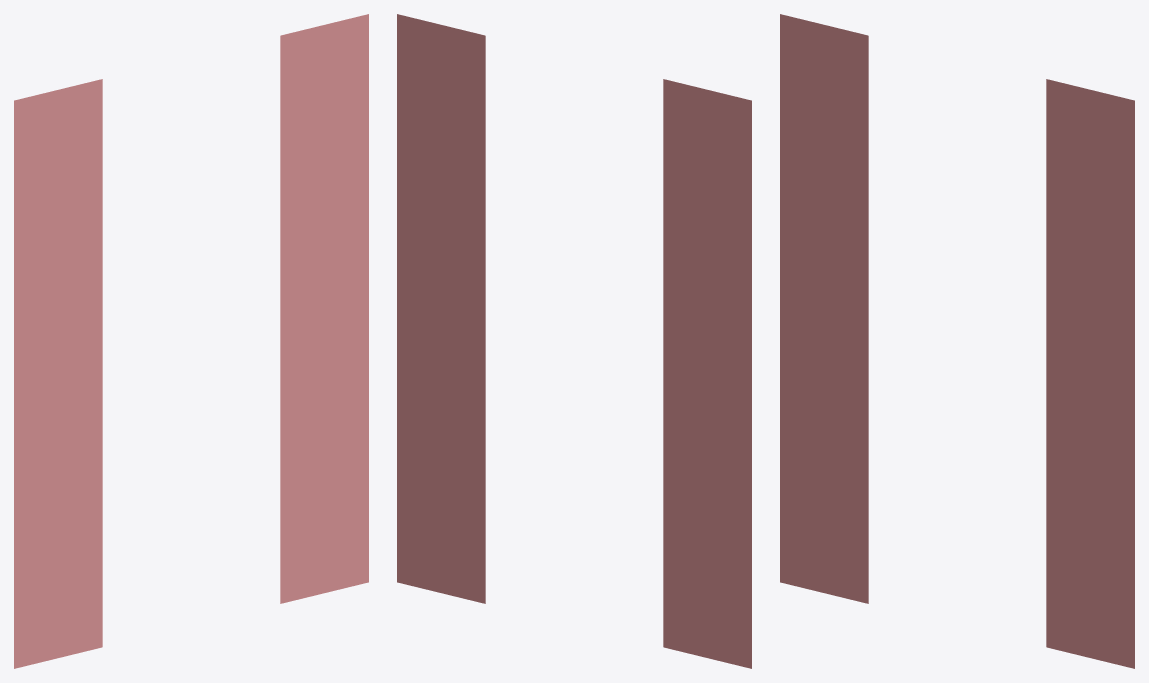
The model's file is cortinas.glb.
The picture shows the model from 3 angles, left to right: view 1: azimuth 30°, elevation 25°; view 2: azimuth 150°, elevation 25°; view 3: azimuth 330°, elevation 25°; orthographic projection.
Parts seen in each view (by area): view 1: cortinas_sim; view 2: cortinas_sim; view 3: cortinas_sim.
Part boxes in pixels (x1,y1,x2,y2): cortinas_sim: (14, 14, 368, 668); cortinas_sim: (397, 14, 751, 668); cortinas_sim: (780, 14, 1134, 668).
Size of the model in its own units: 19.78 by 30.27 by 4.07e-06.
